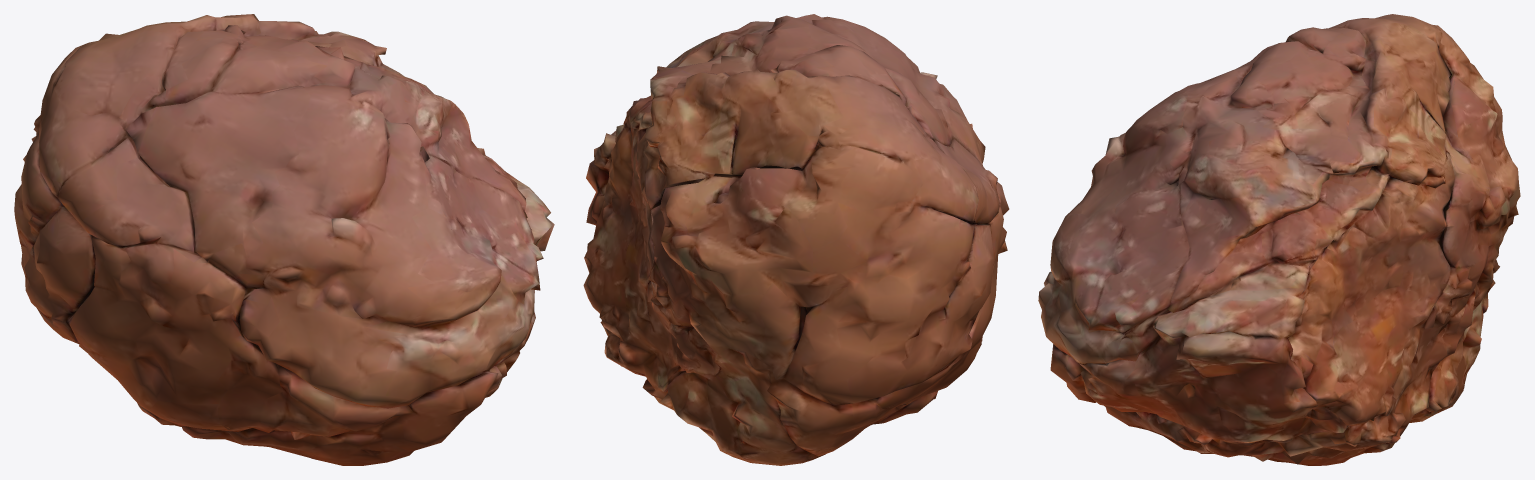
Rendered from boulder.glb.
3 renders of one model, left to right at view 1: azimuth 30°, elevation 25°; view 2: azimuth 150°, elevation 25°; view 3: azimuth 270°, elevation 25°, orthographic. The views are drawn at different scales.
Visible parts, largest first — view 1: tripo_node_ec320654-49d8-4d1b-82d9-78a833659ead; view 2: tripo_node_ec320654-49d8-4d1b-82d9-78a833659ead; view 3: tripo_node_ec320654-49d8-4d1b-82d9-78a833659ead.
Part boxes in pixels (bbox=[...]): tripo_node_ec320654-49d8-4d1b-82d9-78a833659ead: bbox=[14, 14, 554, 465]; tripo_node_ec320654-49d8-4d1b-82d9-78a833659ead: bbox=[583, 14, 1009, 465]; tripo_node_ec320654-49d8-4d1b-82d9-78a833659ead: bbox=[1038, 14, 1520, 465].
Size of the model in its own units: 1 by 0.8516 by 0.9927.
Materials: 1 (1 with a texture image).
